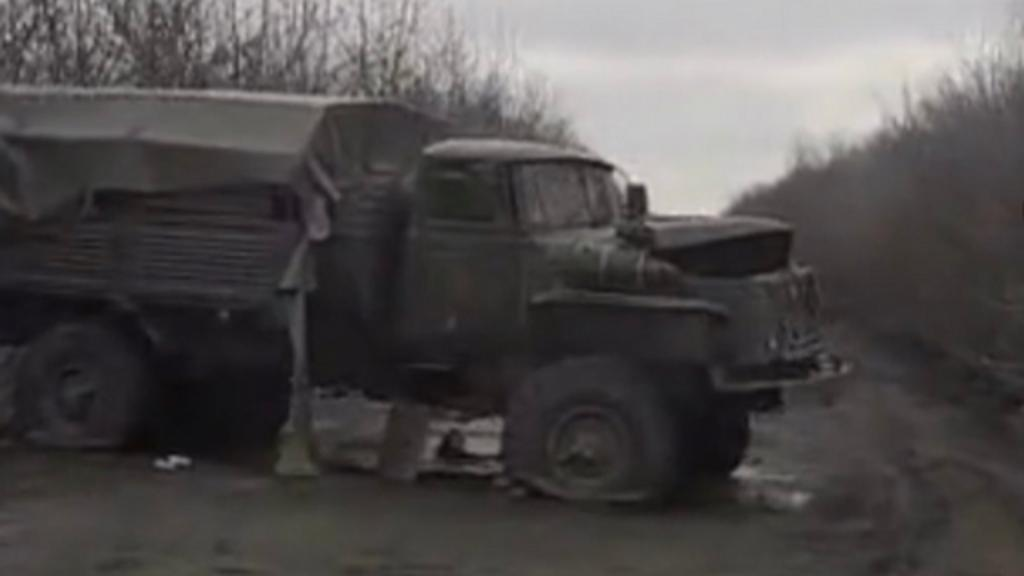TRUCK: (2, 78, 864, 520)
